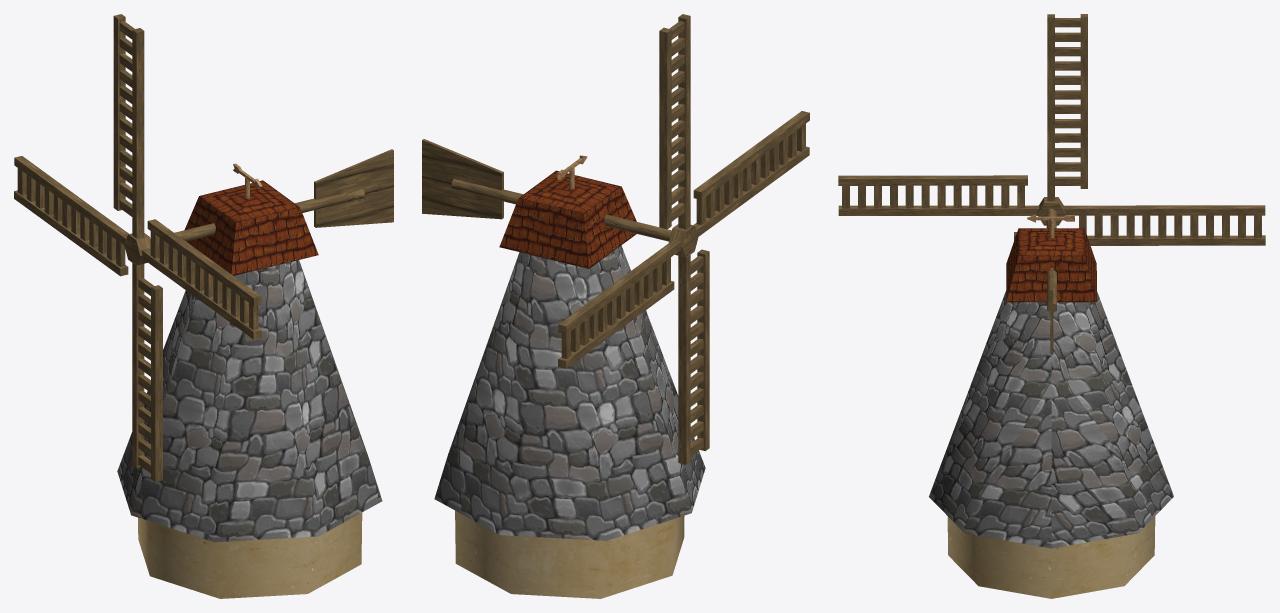
3 views of the same model, side by side, from view 1: azimuth 30°, elevation 25°; view 2: azimuth 150°, elevation 25°; view 3: azimuth 270°, elevation 25° (orthographic). The views are drawn at different scales.
Visible parts, largest first — view 1: windmill.007; view 2: windmill.007; view 3: windmill.007.
Part boxes in pixels (x1=…): windmill.007: x1=14, y1=14, x2=393, y2=598; windmill.007: x1=422, y1=14, x2=809, y2=598; windmill.007: x1=838, y1=14, x2=1265, y2=598.
Bounding box in the file's own units: 4.37 × 8.75 × 6.9.
Materials: 1 (1 with a texture image).
